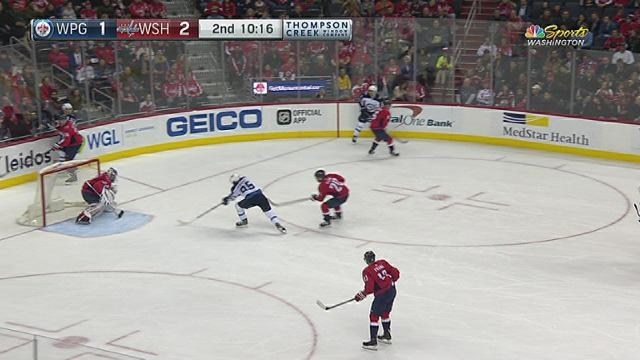geico: (166, 108, 265, 138)
